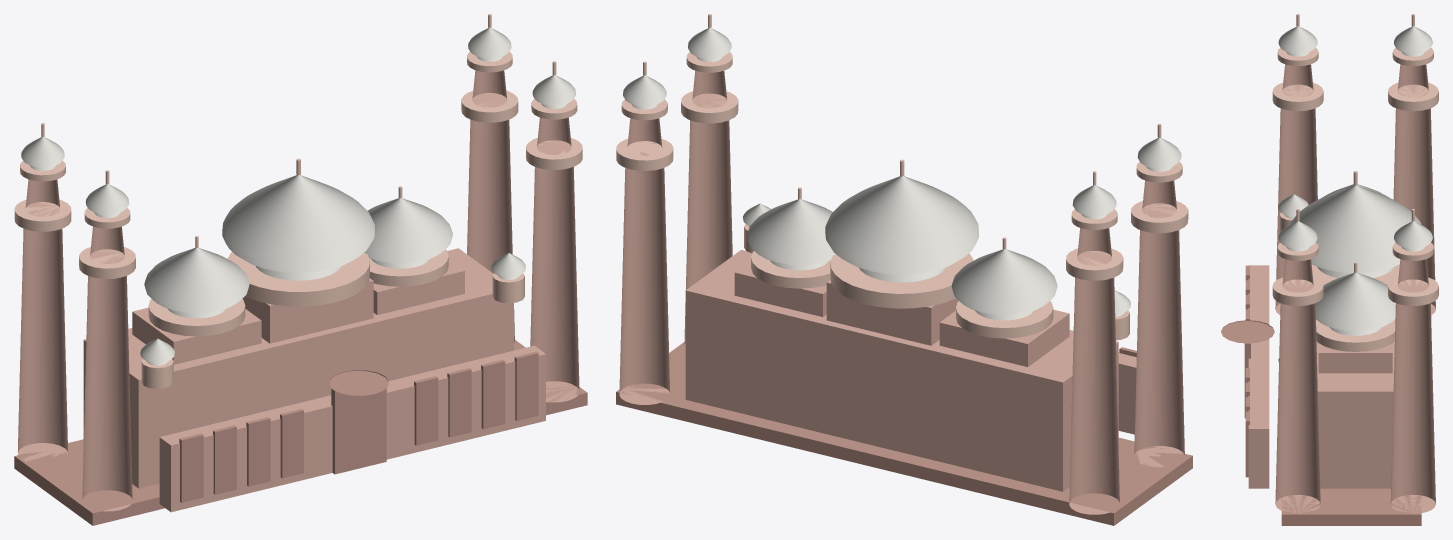
The model's file is mosque_model.glb.
3 renders of one model, left to right at view 1: azimuth 30°, elevation 25°; view 2: azimuth 150°, elevation 25°; view 3: azimuth 270°, elevation 25°, orthographic. The views are drawn at different scales.
Size of the model in its own units: 3 by 1.98 by 1.28.
